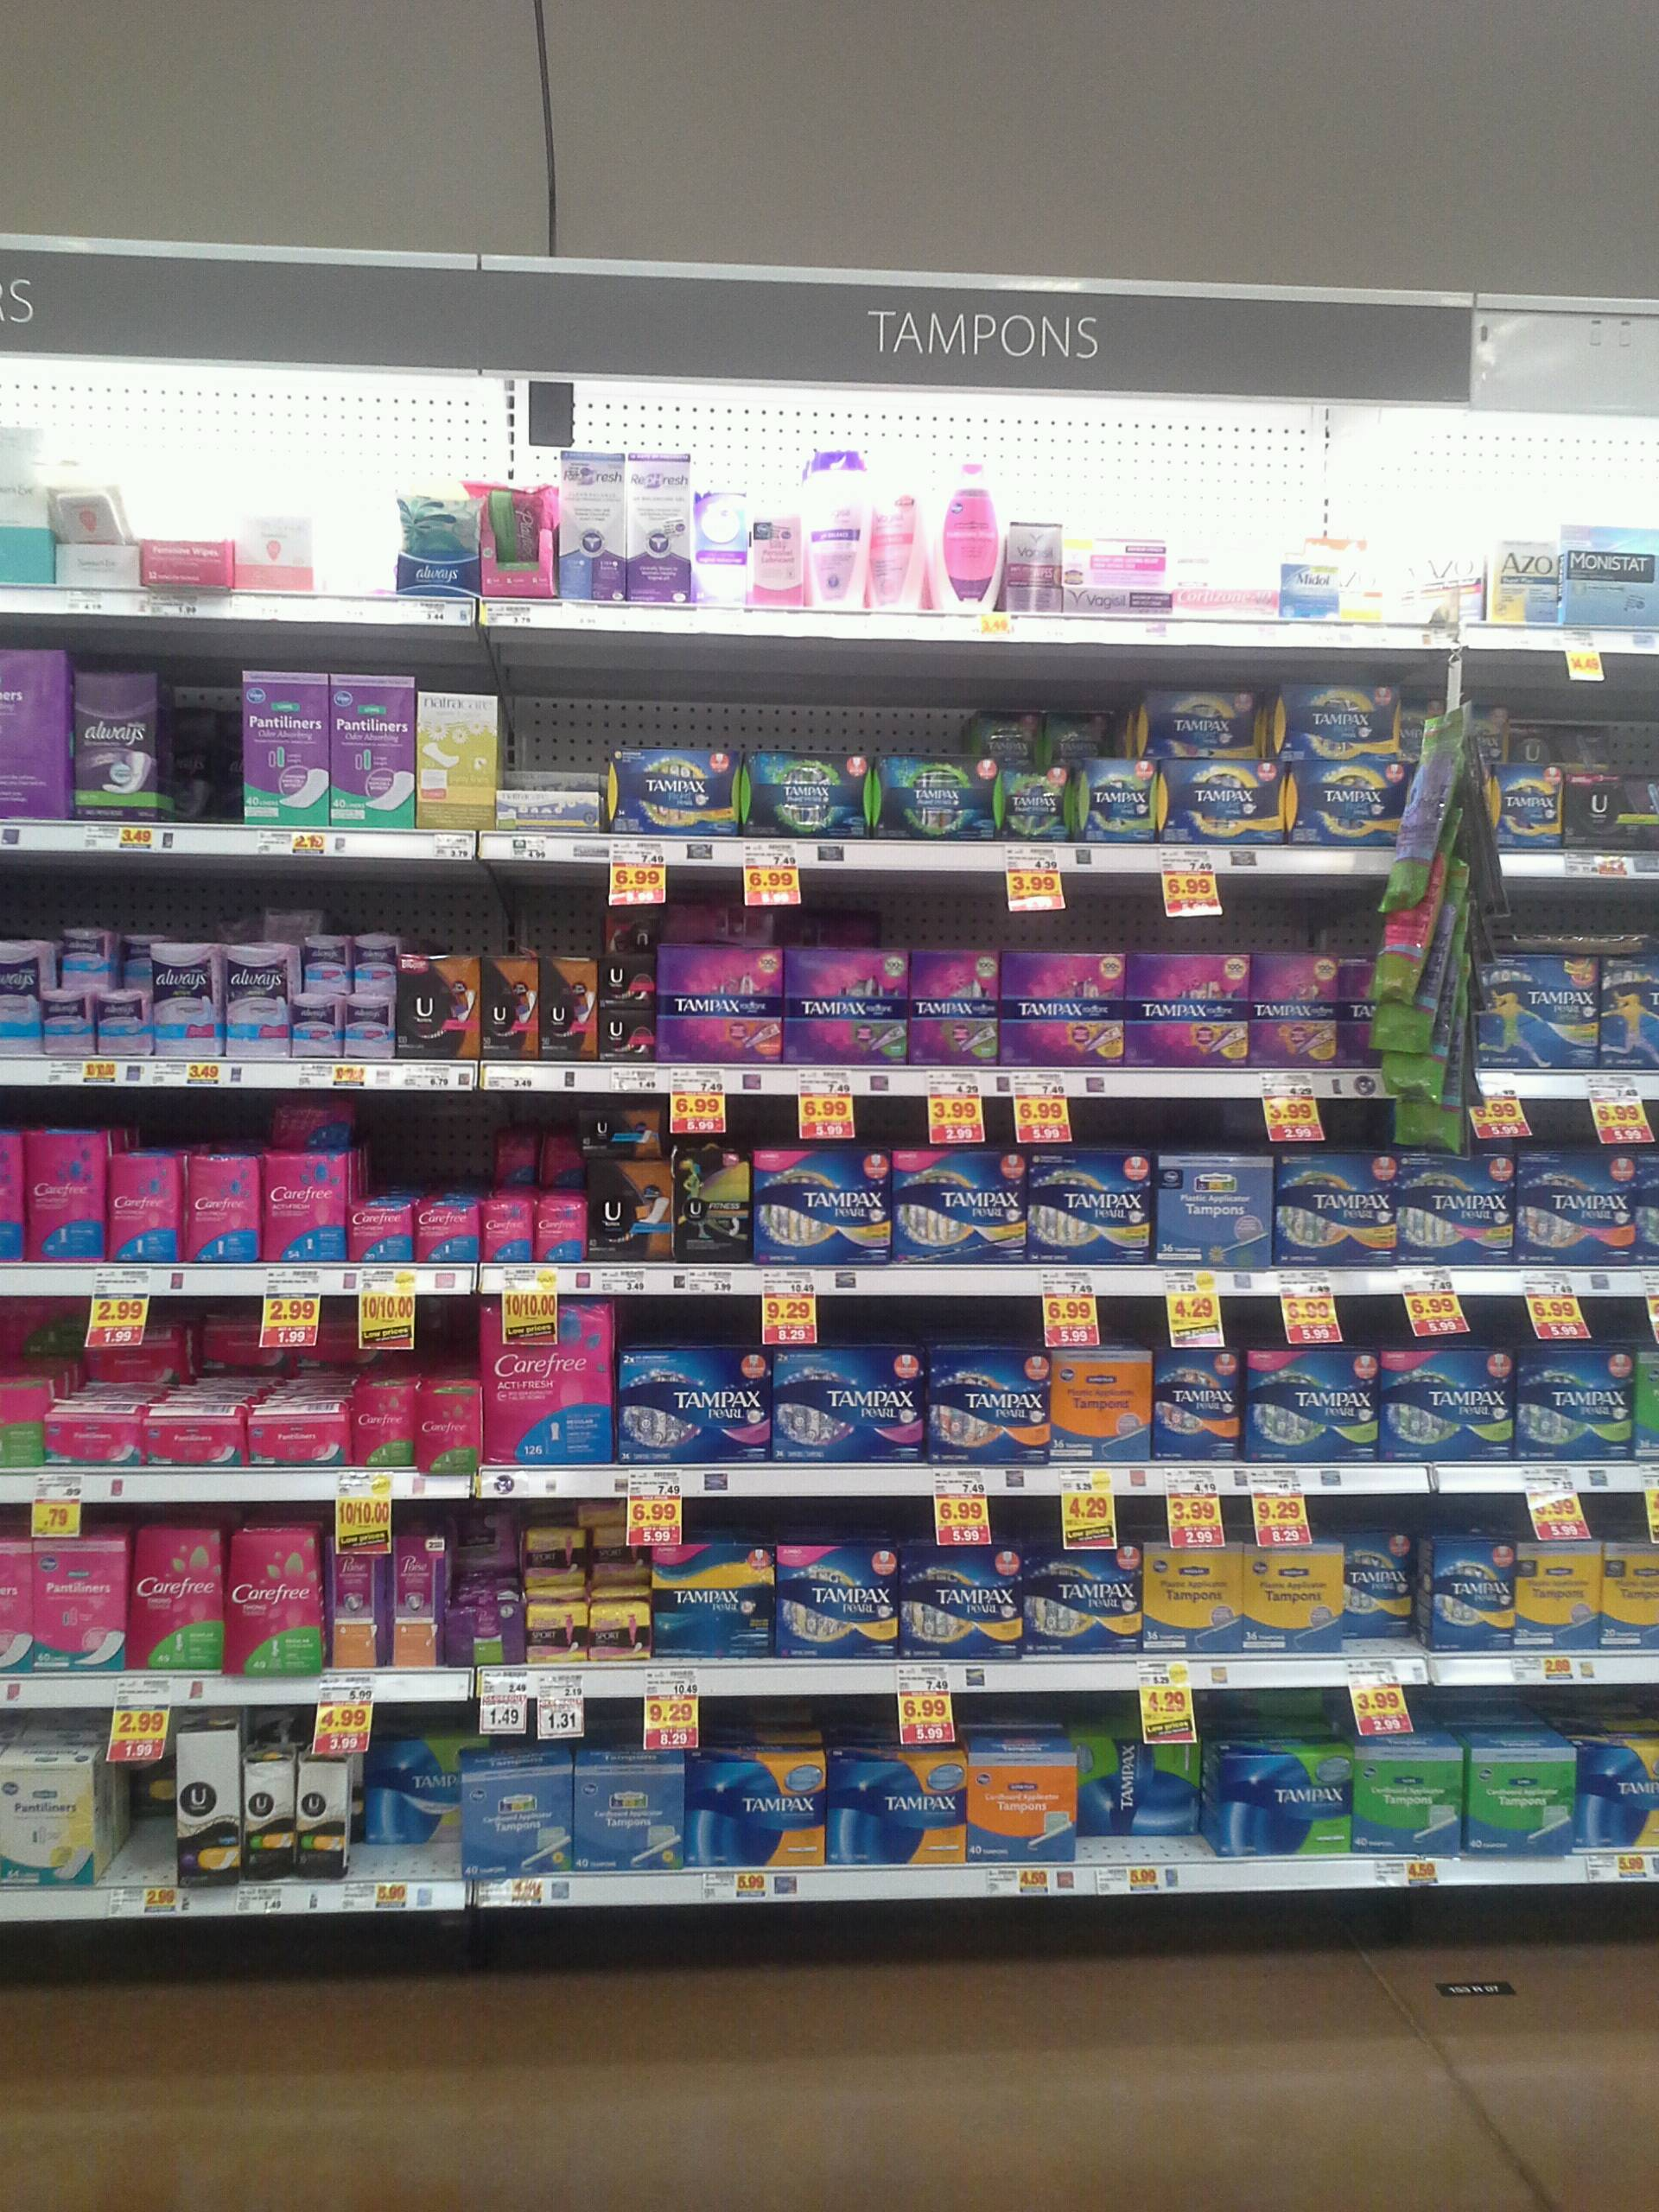Misplacement: (479, 1122, 587, 1266)
Out-of-stock: (349, 1125, 477, 1270)
